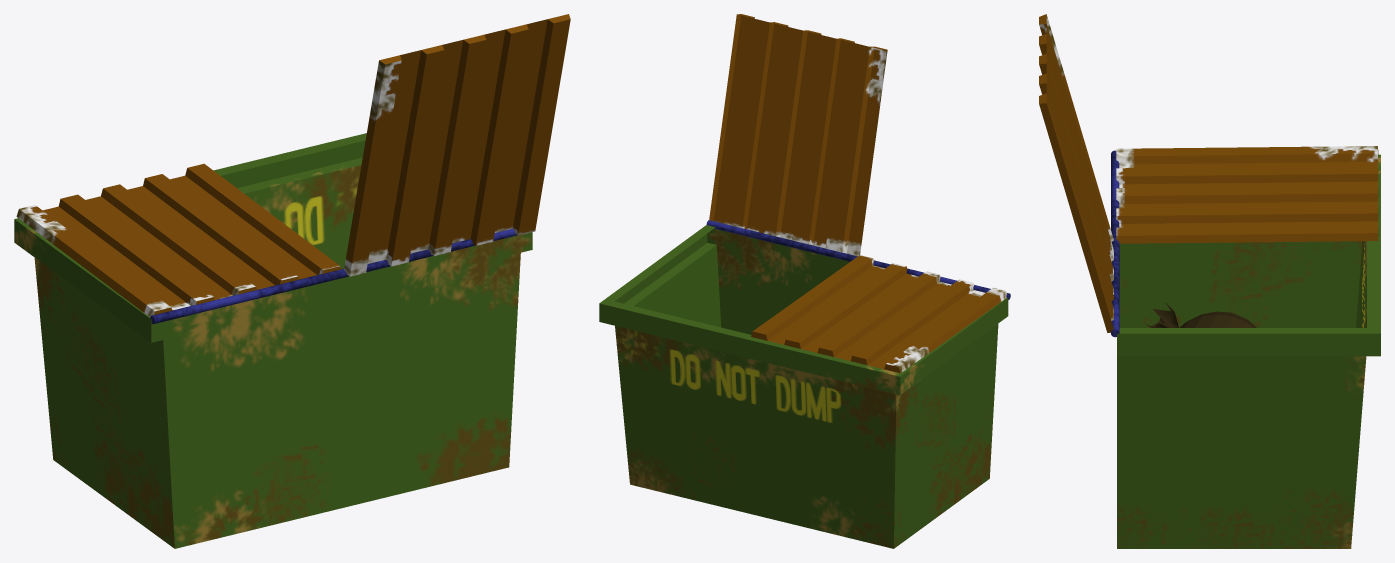
The model's file is evn_dumpsterWithTrash.fbx.
3 views of the same model, side by side, from view 1: azimuth 30°, elevation 25°; view 2: azimuth 150°, elevation 25°; view 3: azimuth 270°, elevation 25° (orthographic). The views are drawn at different scales.
Visible parts, largest first — view 1: polySurface1; view 2: polySurface1; view 3: polySurface1.
Boxes of the visible parts, x1,y1,x2,y2 form: polySurface1: (14, 14, 570, 548); polySurface1: (599, 14, 1010, 548); polySurface1: (1039, 14, 1380, 548).
Size of the model in its own units: 4.48 by 5.32 by 3.61.
